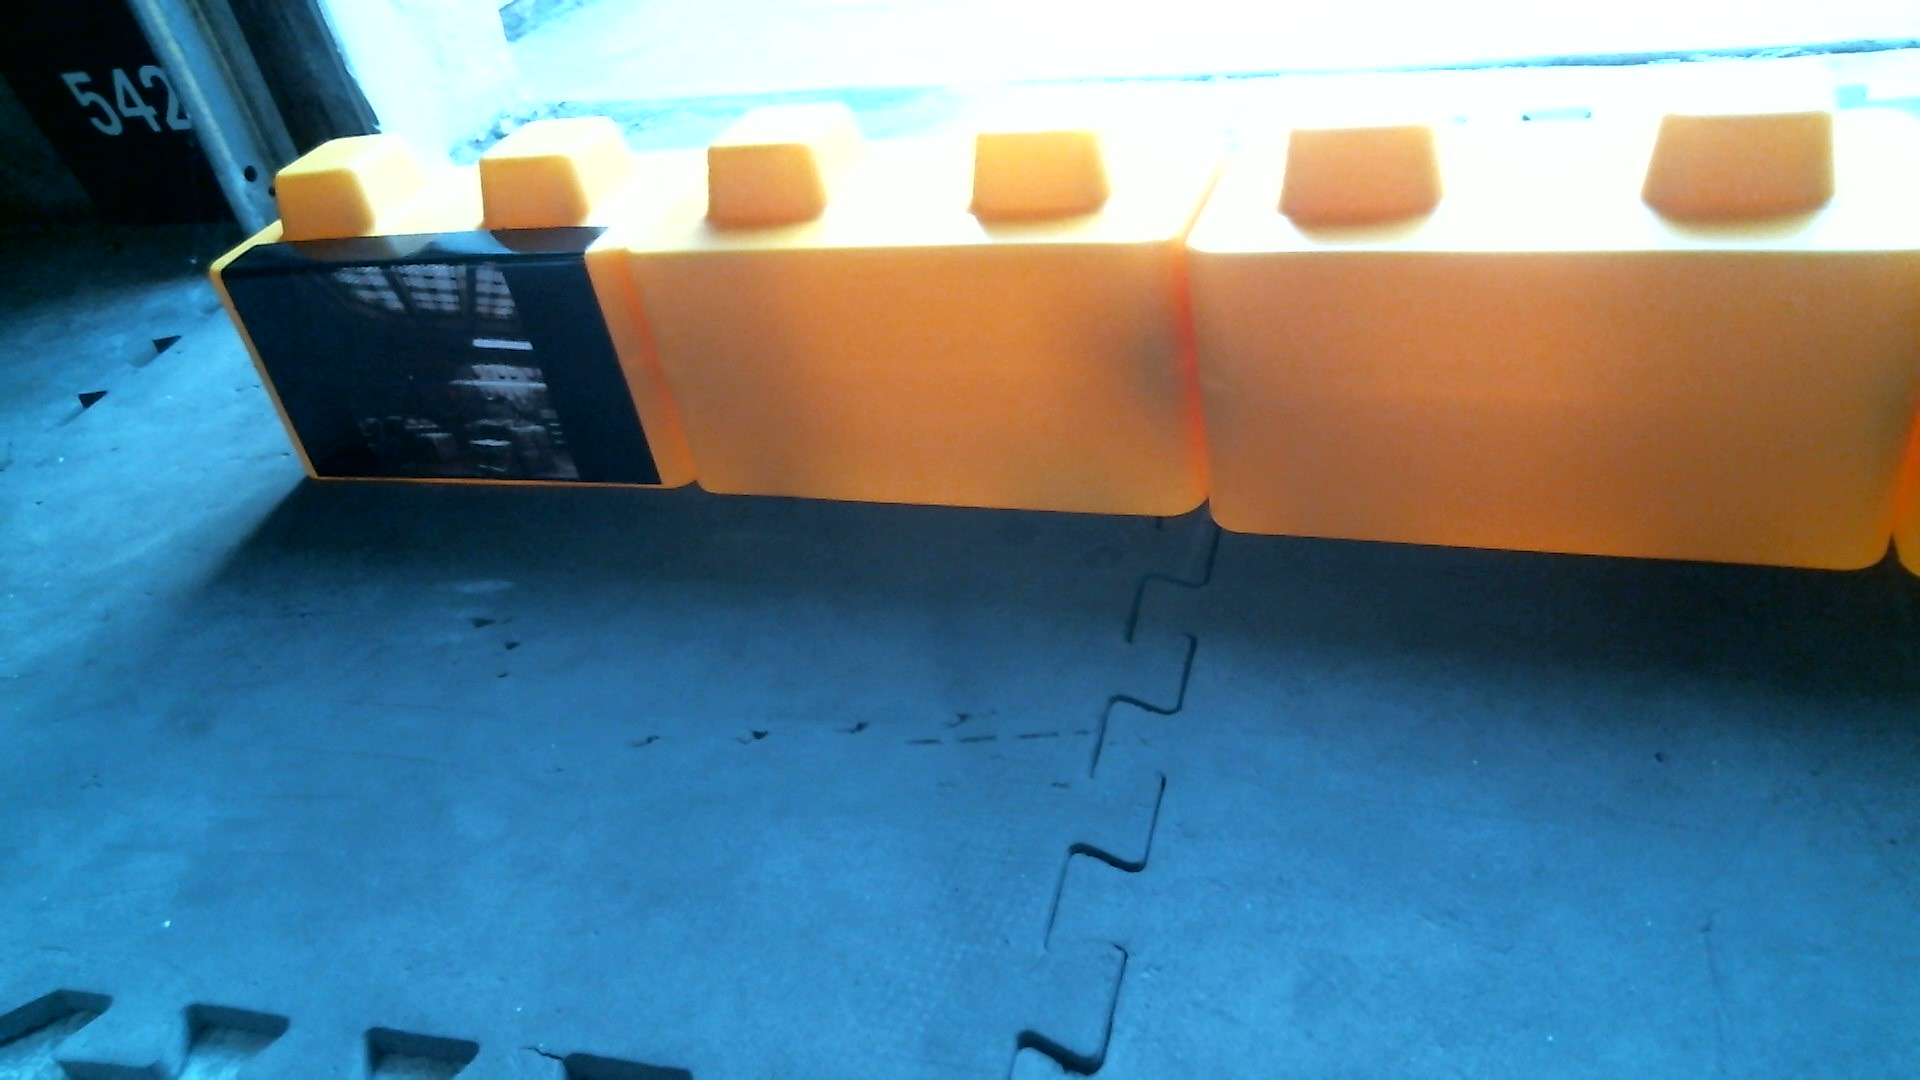left: (212, 58, 1920, 578)
